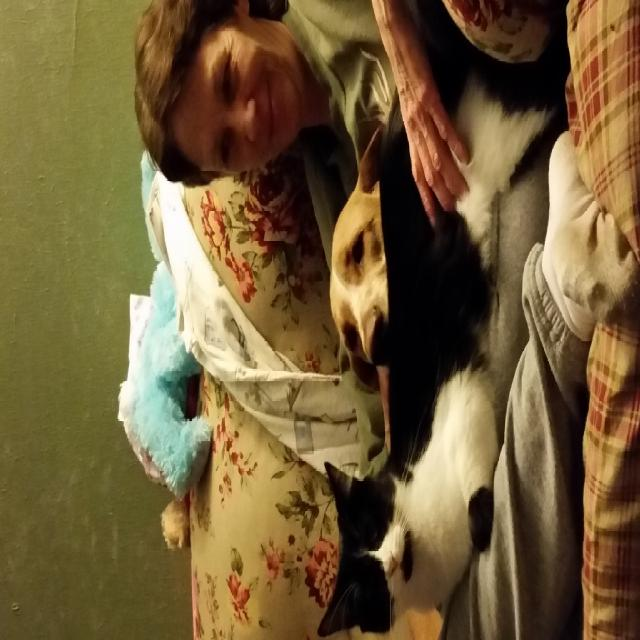Dog: (330, 123, 390, 394)
